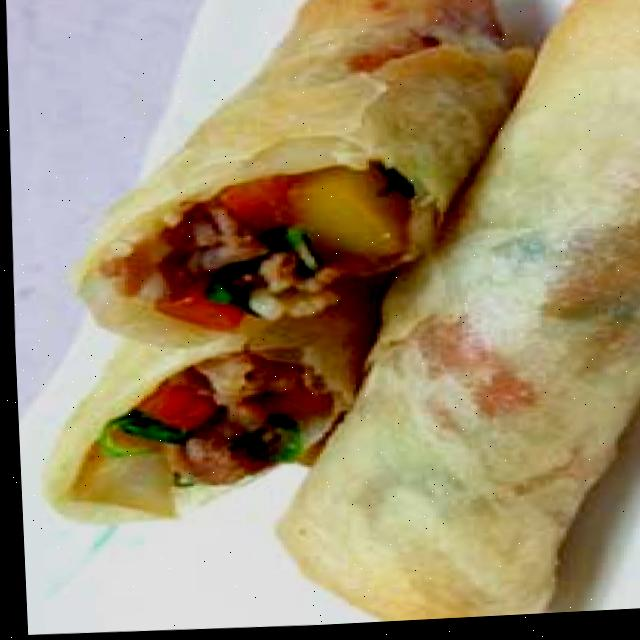鸡蛋料理: (10, 0, 640, 640)
